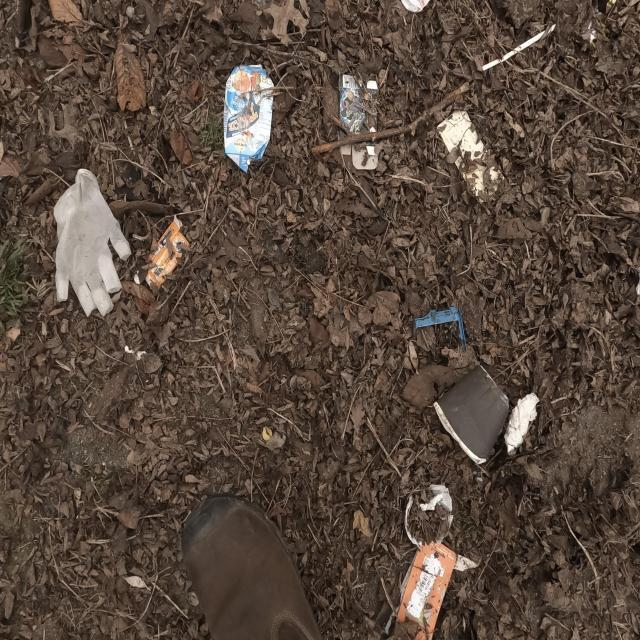Cup: (432, 362, 510, 467)
Paper: (503, 391, 540, 456)
Plastic: (384, 537, 459, 640), (133, 210, 191, 290)
